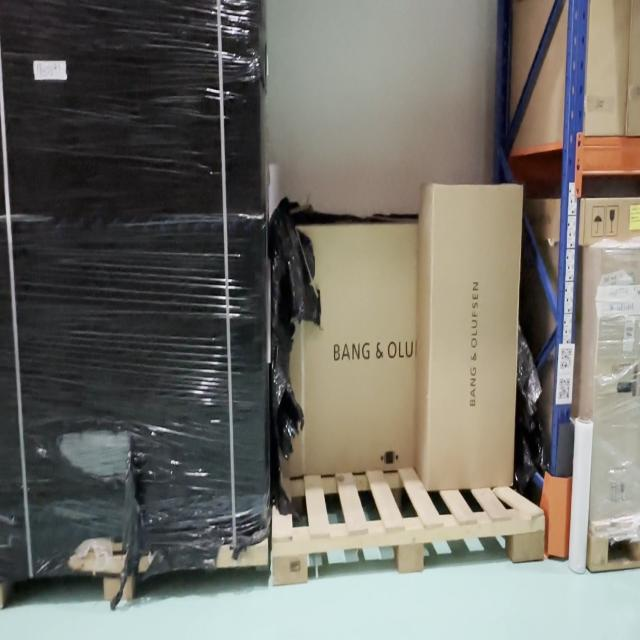box: (0, 0, 265, 539), (280, 223, 417, 469), (434, 187, 512, 486), (590, 249, 640, 525), (586, 198, 640, 242)
